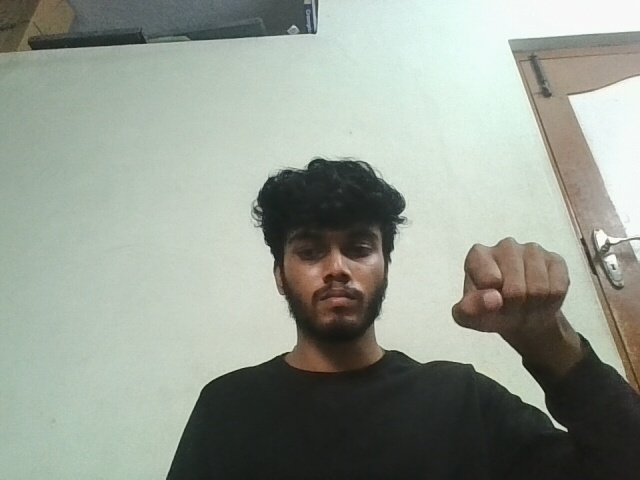yes: (436, 234, 591, 338)
